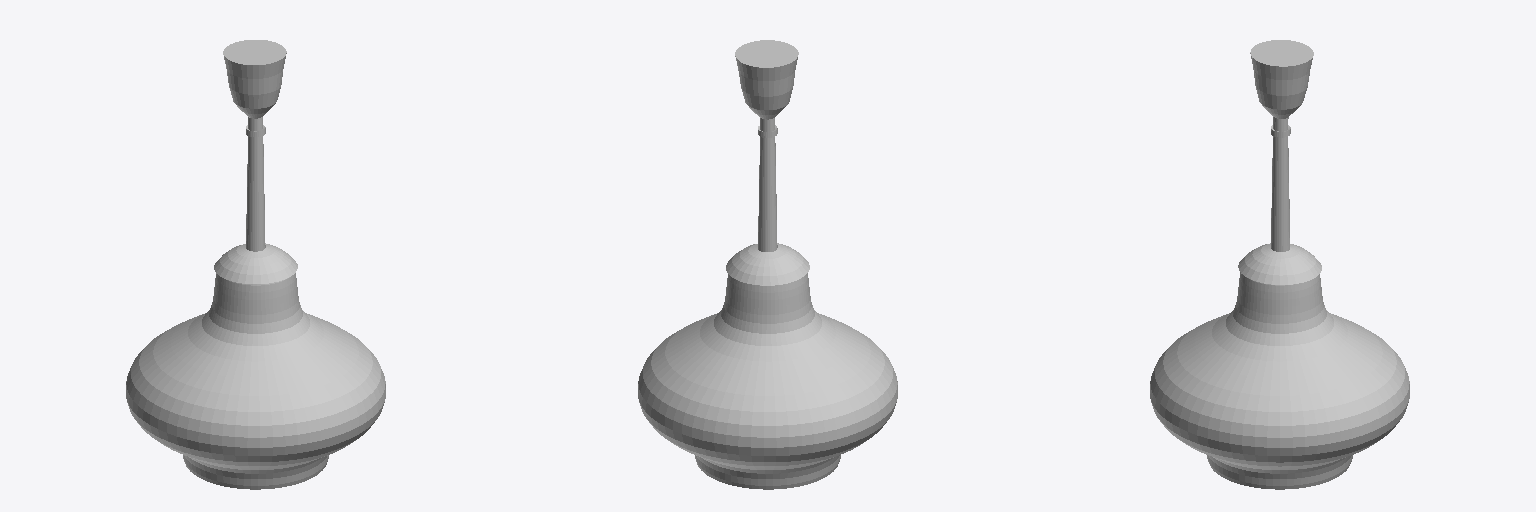
The model's file is plafon.obj.
3 renders of one model, left to right at view 1: azimuth 30°, elevation 25°; view 2: azimuth 150°, elevation 25°; view 3: azimuth 270°, elevation 25°, orthographic.
Parts seen in each view (by area): view 1: Сфера, Сфера.001; view 2: Сфера, Сфера.001; view 3: Сфера, Сфера.001.
Part boxes in pixels (bbox=[...]): Сфера: bbox=[126, 273, 385, 489]; Сфера.001: bbox=[214, 40, 297, 283]; Сфера: bbox=[638, 273, 897, 489]; Сфера.001: bbox=[726, 40, 809, 285]; Сфера: bbox=[1150, 272, 1409, 489]; Сфера.001: bbox=[1238, 40, 1321, 284].
Bounding box in the file's own units: 0.8102 × 1.39 × 0.8103.